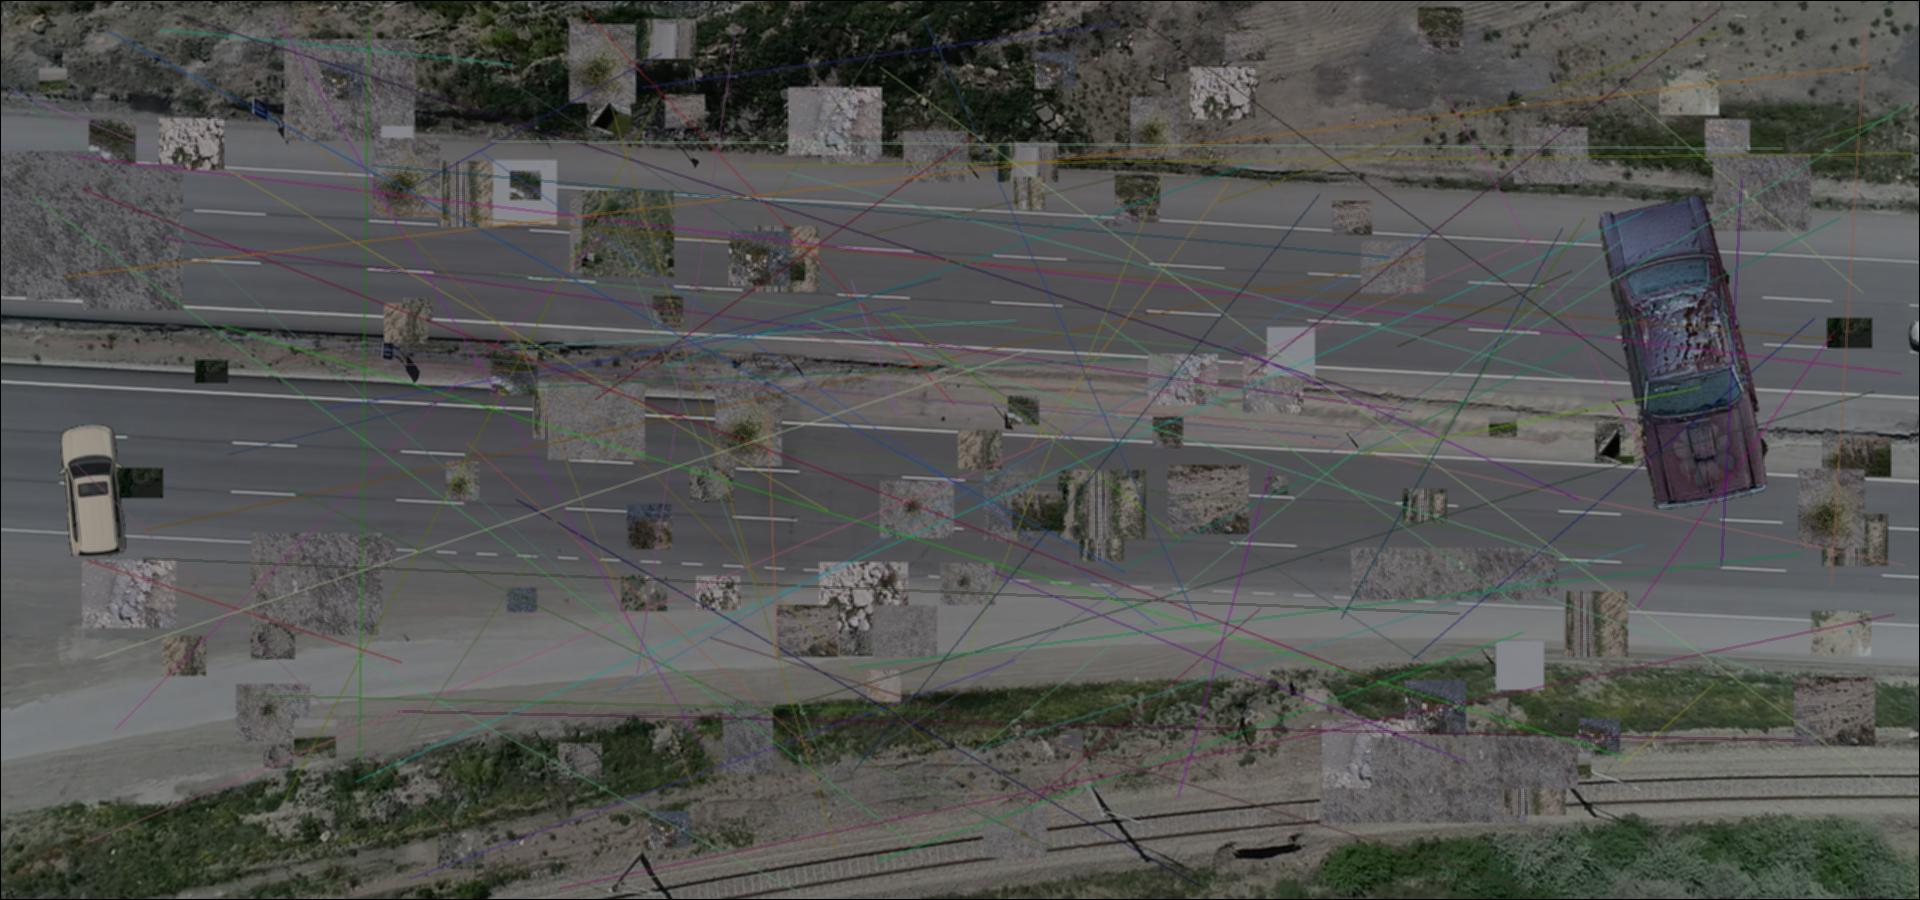arac: (1592, 196, 1776, 509), (58, 425, 129, 556)
